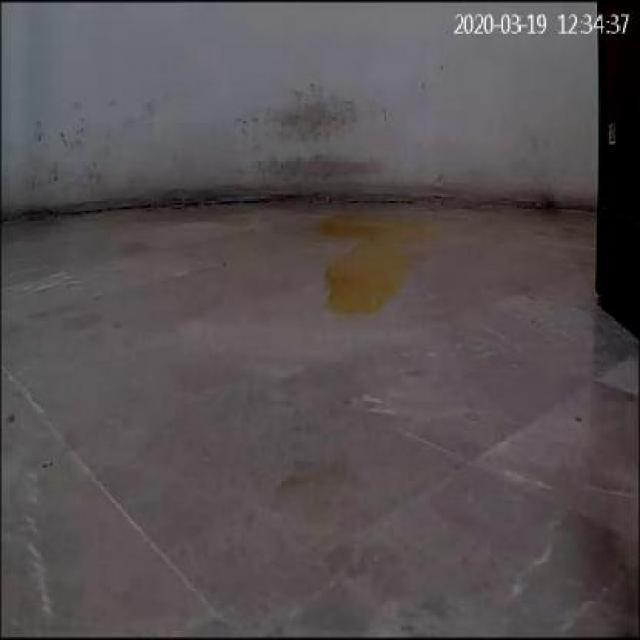spill: (313, 210, 427, 318)
